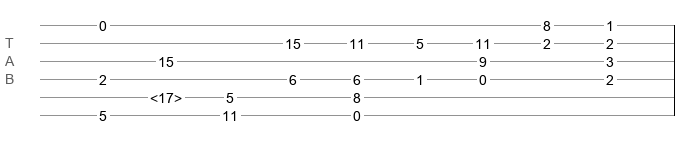0: (99, 18, 107, 28), (353, 108, 361, 118), (479, 72, 487, 82)
1: (416, 72, 424, 82), (606, 18, 614, 28)
11: (222, 108, 238, 118), (349, 36, 365, 46), (475, 36, 491, 46)
15: (158, 54, 174, 64), (285, 36, 301, 46)
2: (99, 72, 107, 82), (543, 36, 551, 46), (606, 36, 614, 46), (606, 72, 614, 82)
3: (606, 54, 614, 64)
5: (99, 108, 107, 118), (226, 90, 234, 100), (416, 36, 424, 46)
6: (289, 72, 297, 82), (353, 72, 361, 82)
8: (353, 90, 361, 100), (543, 18, 551, 28)
9: (479, 54, 487, 64)
harmonic: (150, 90, 182, 100)
